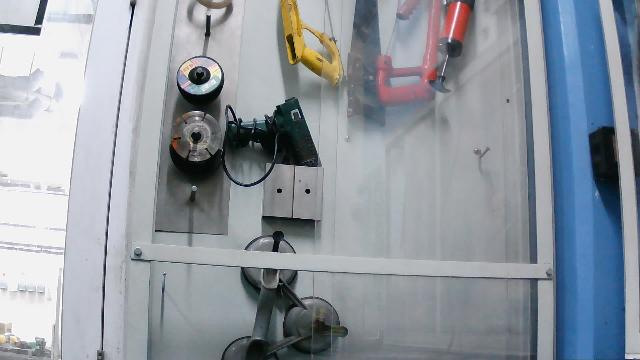gun_lem: (224, 95, 322, 188)
